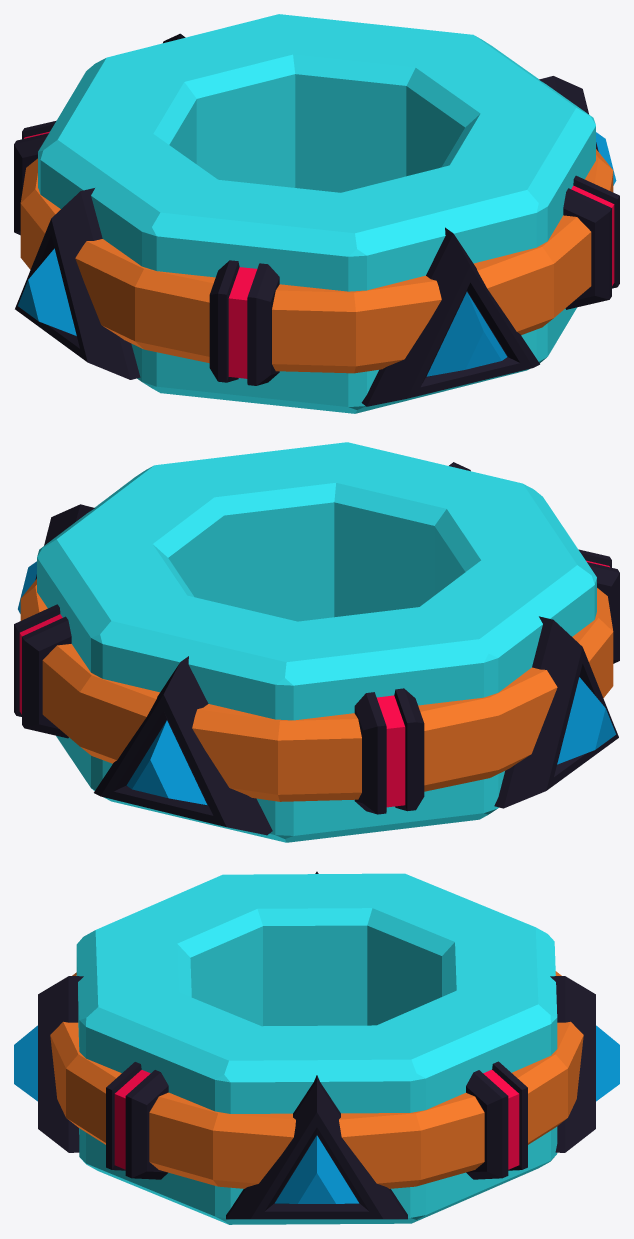
File: Blue.fbx
The picture shows the model from 3 angles, top to bottom: view 1: azimuth 30°, elevation 25°; view 2: azimuth 150°, elevation 25°; view 3: azimuth 270°, elevation 25°; orthographic projection. The views are drawn at different scales.
Parts seen in each view (by area): view 1: Triangle; view 2: Triangle; view 3: Triangle.
Boxes of the visible parts, bbox=[...] form: Triangle: bbox=[14, 14, 619, 413]; Triangle: bbox=[14, 442, 619, 842]; Triangle: bbox=[14, 871, 619, 1224].
Size of the model in its own units: 1.59 by 1.59 by 0.4745.
1 material, 1 textured.
